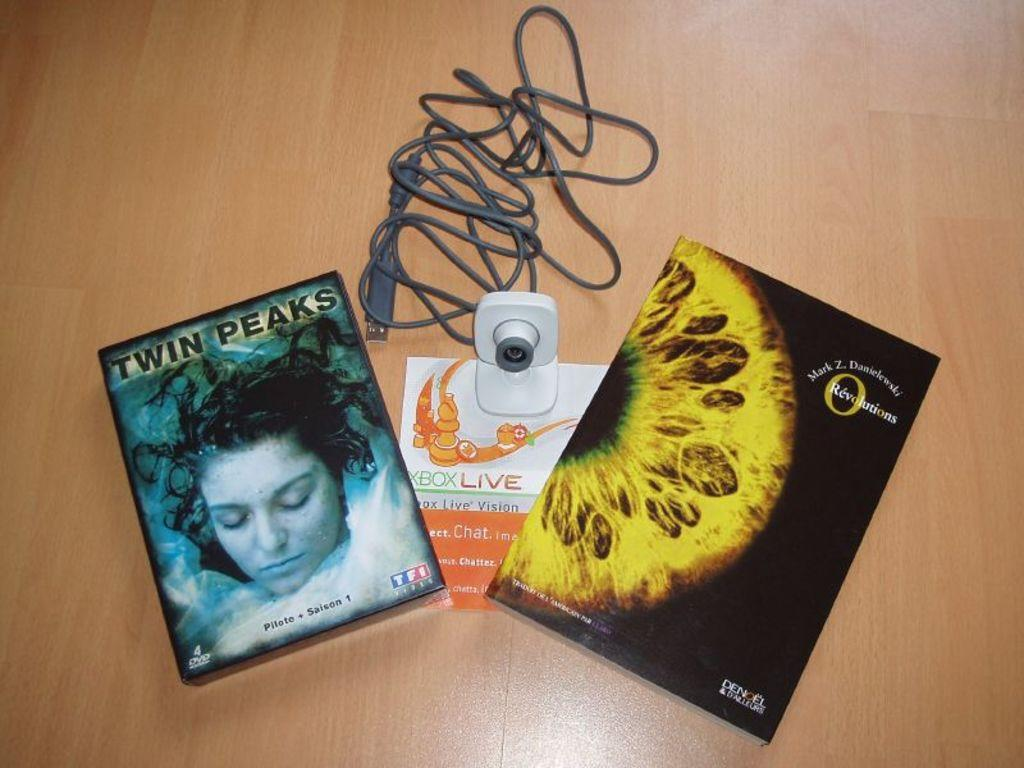book: (490, 227, 941, 753), (92, 273, 454, 695)
